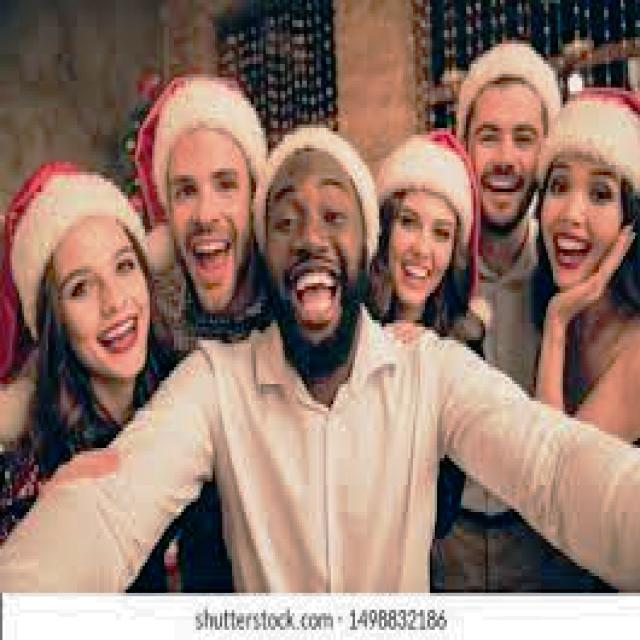TOPI: (0, 155, 147, 384), (133, 64, 261, 263), (379, 118, 486, 333), (249, 118, 379, 269), (442, 37, 570, 175), (534, 78, 638, 222)
